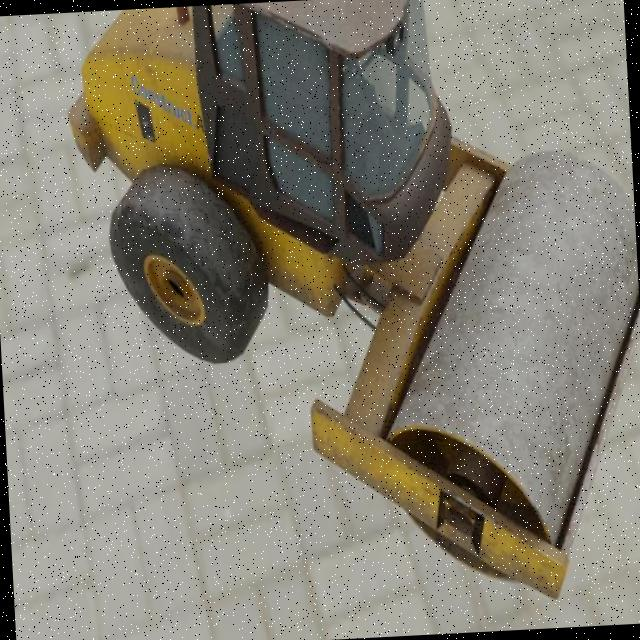Roller: (60, 0, 640, 625)
